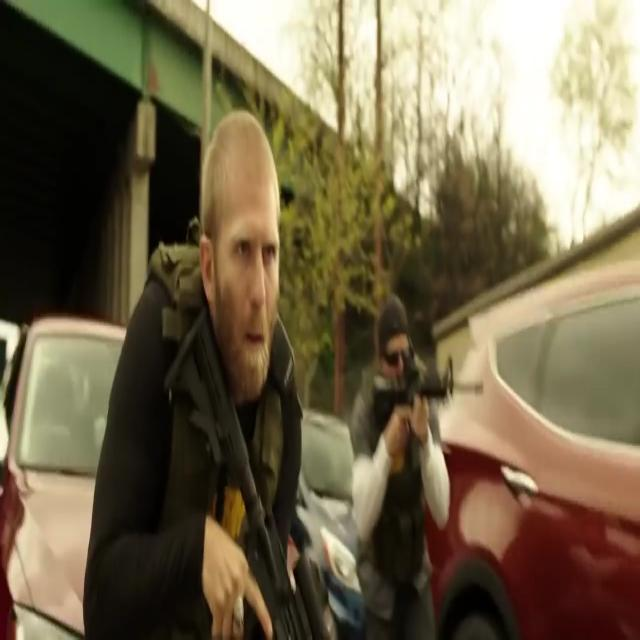Weapon: (172, 310, 328, 632)
